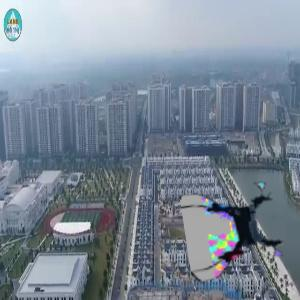drone: (186, 180, 287, 281)
